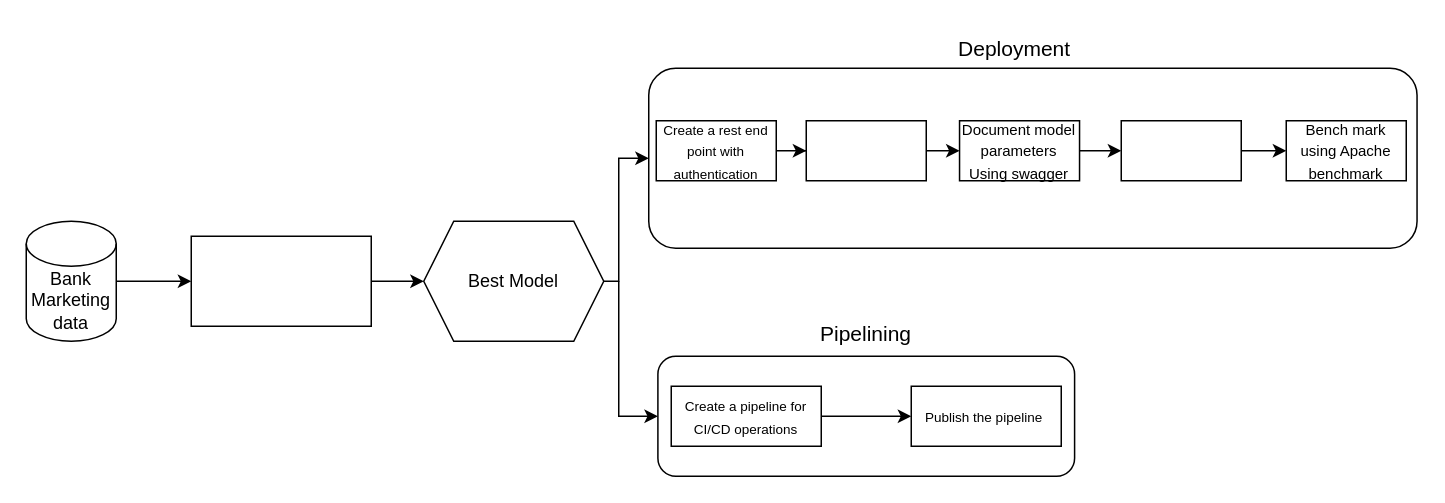
Image size: 1445x503. Some labels were removed from this diagram. Here are the shapes that lost their labels. From the top down, the box of each, then its label:
(805, 119, 926, 181): Enable application insights (logging & server montoring)
(1120, 119, 1241, 181): Test endpoint
(190, 235, 371, 326): AutoML
